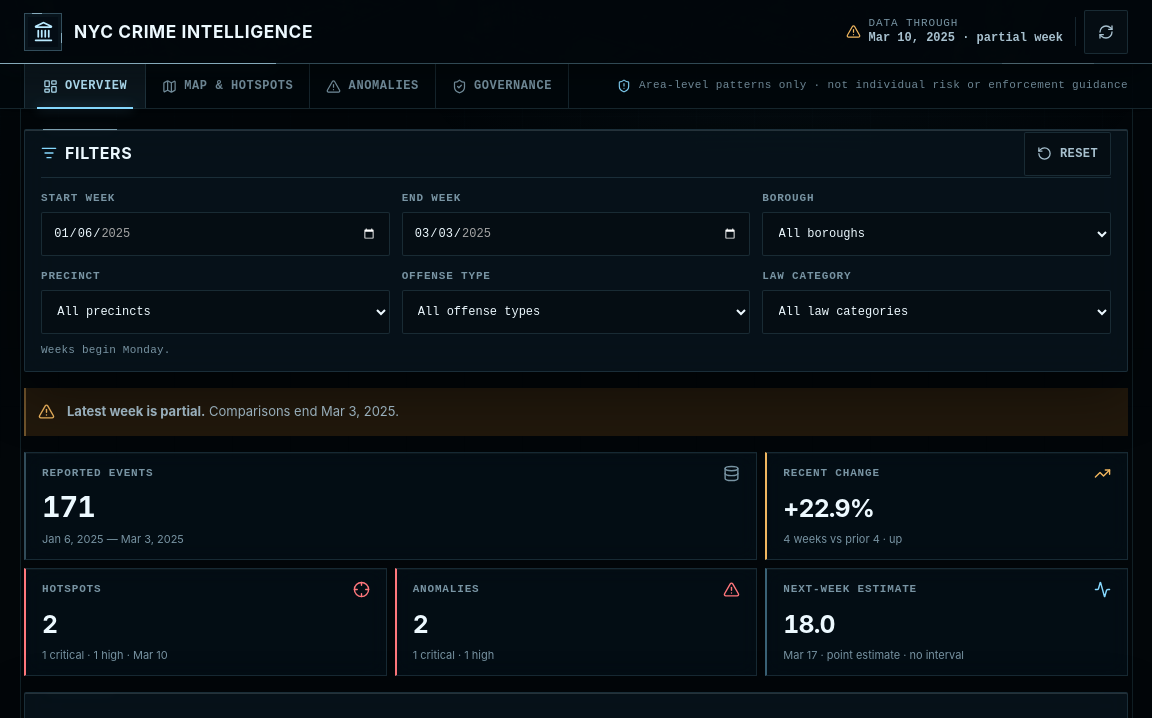
Test case: Overview global filtering › identifies an explicit empty result without collapsing the controls
Expected: the element with test id "selected-total" is shown, 24,452 -> 757,560
Select "NO OBSERVED RECORDS" in the dropdown labelled "Offense type" at (576, 312), box 402,290 -> 750,334
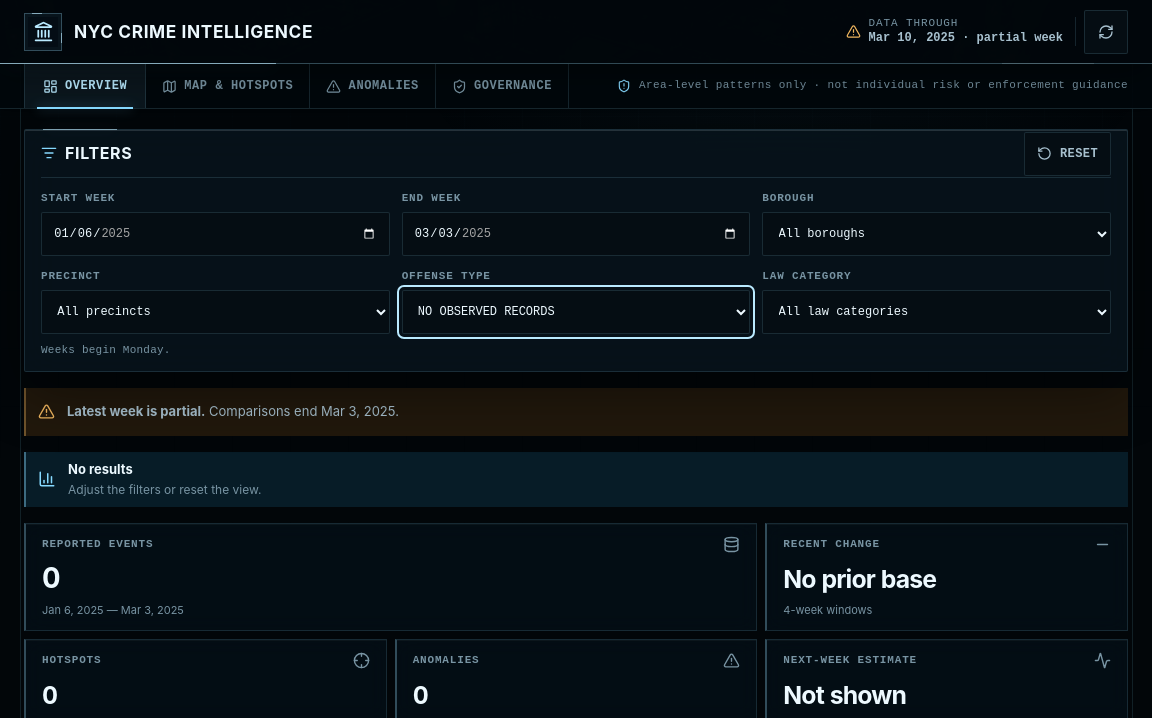
Expected: the element with test id "selected-total" shows "0", 42,560 -> 60,595
Now the text "No results" is shown, box 68,461 -> 133,477
